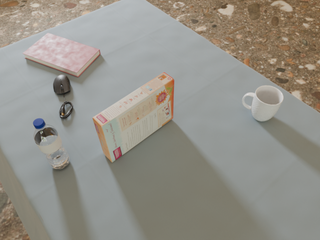book: (23, 33, 100, 77)
bottle: (33, 118, 70, 169)
box: (93, 72, 174, 162)
cup: (242, 86, 283, 121)
mouse: (53, 75, 70, 96)
